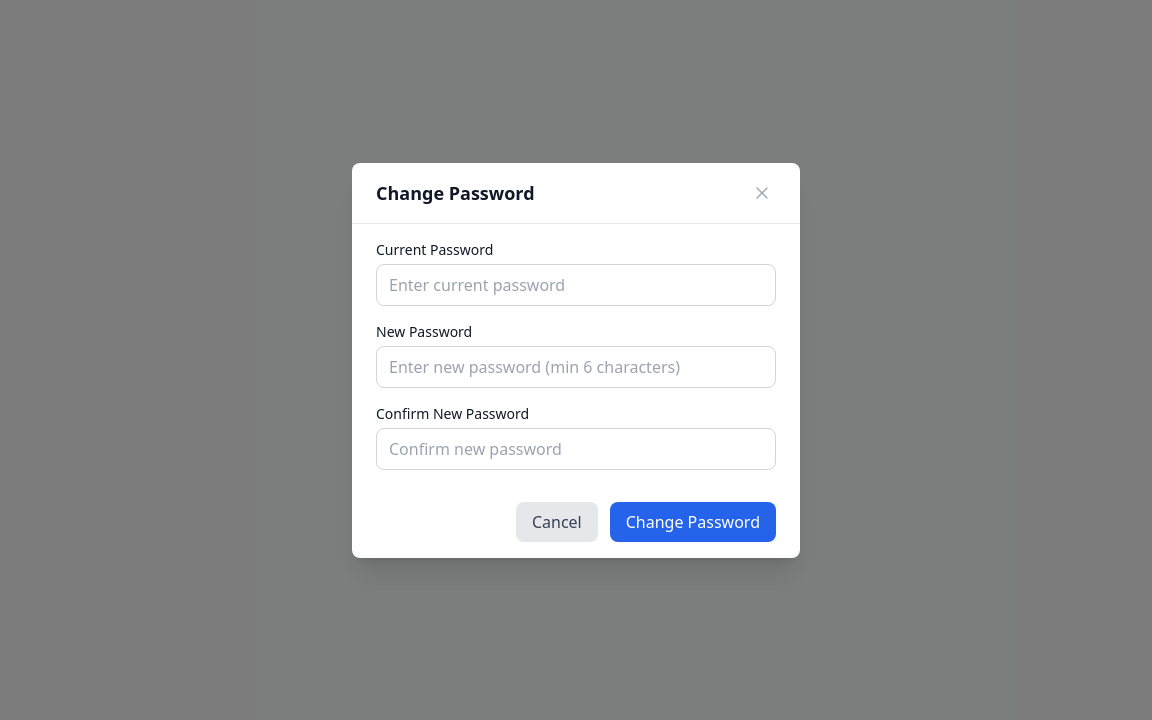
it: ChangePasswordModal › should display error when password is too short
Type "currentpass" into the password field with placeholder "Enter current password" at (576, 284), box [376,264,776,306]
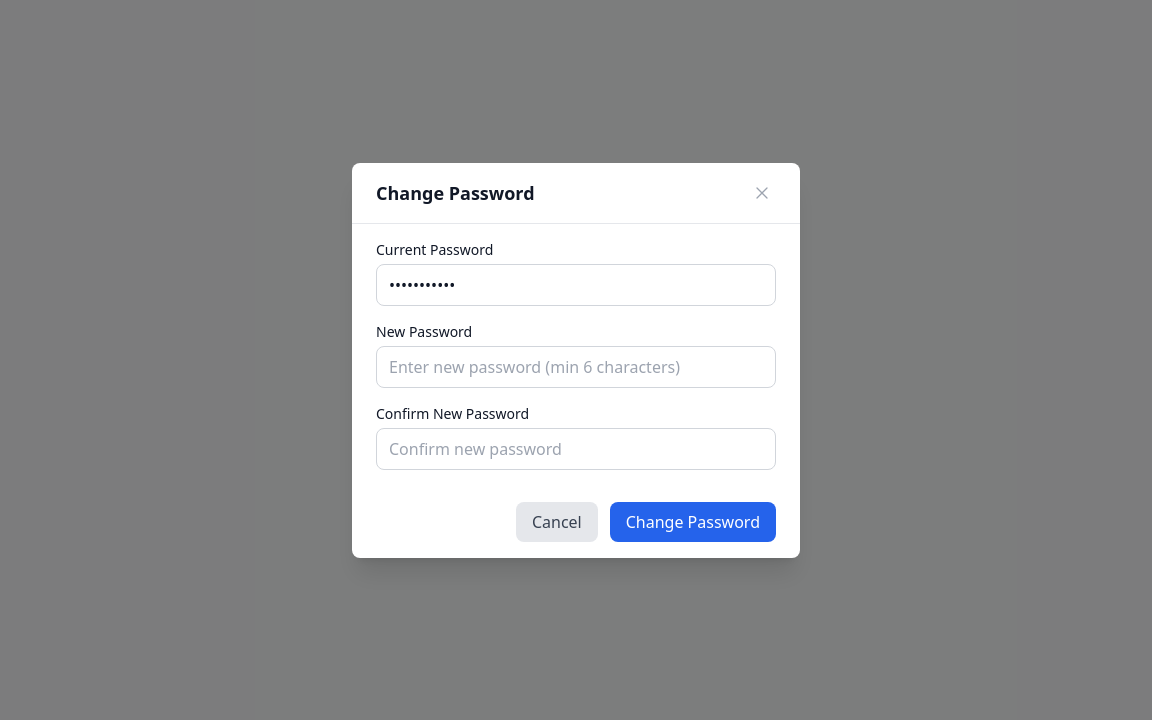
Type "short" into the password field with placeholder "Enter new password (min 6 characters)" at (576, 366), box [376,346,776,388]
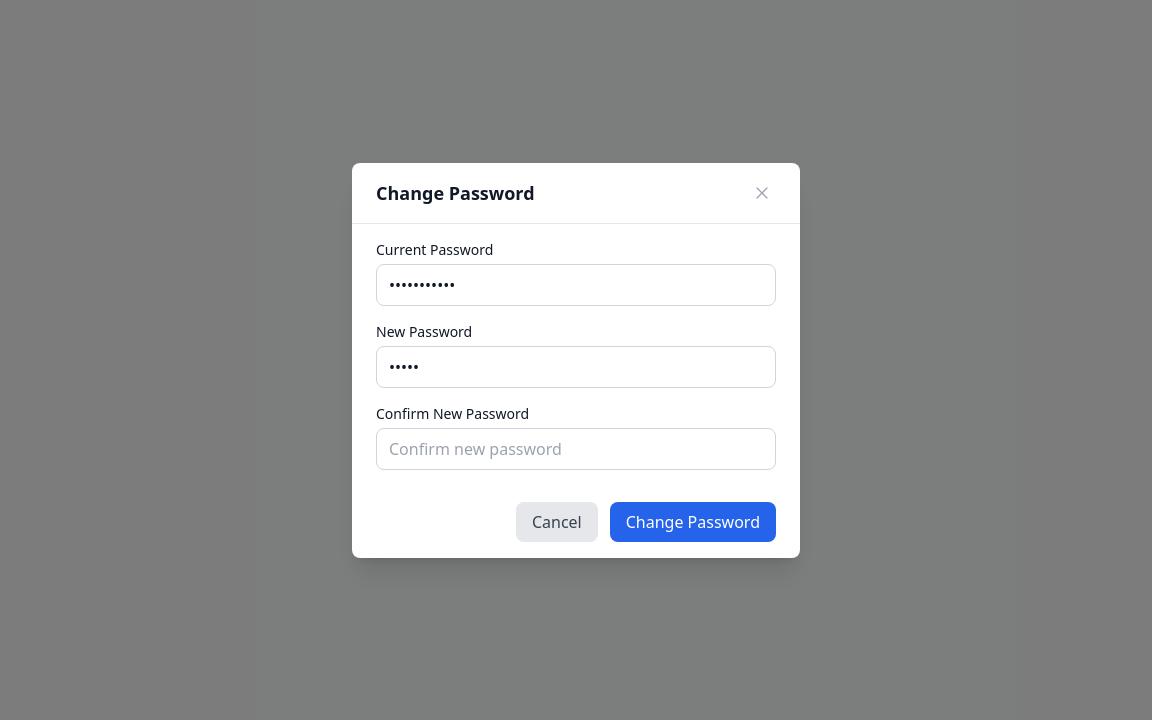
Type "short" into the password field with placeholder "Confirm new password" at (576, 448), box [376,428,776,470]
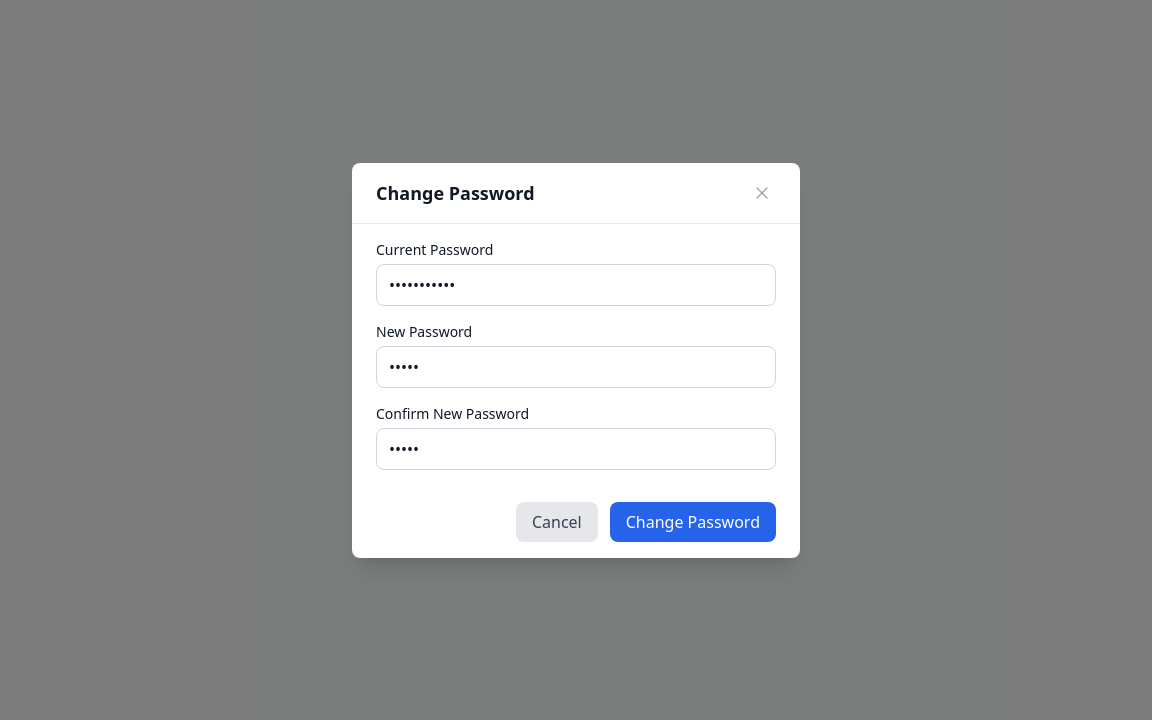
Submit the form, box [376,240,776,542]
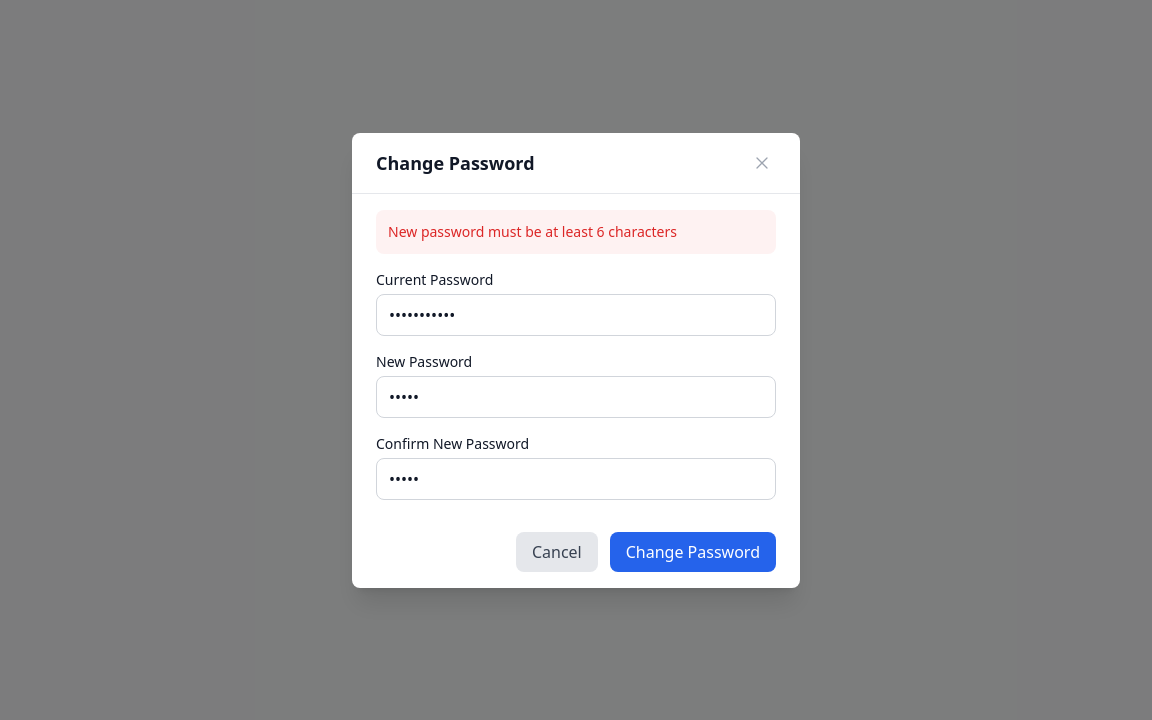
expect the text "New password must be at least 6 characters" is shown: met, box [376,210,776,254]
